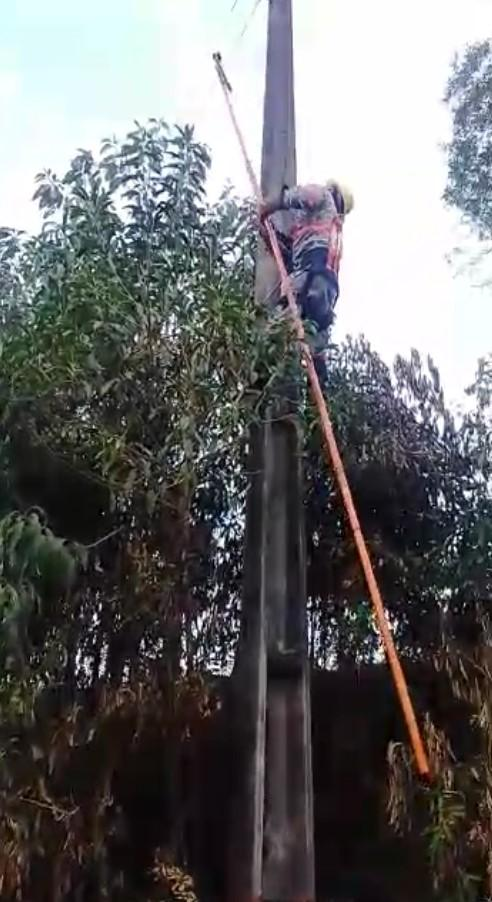Vara_Manobra: (208, 49, 427, 775)
